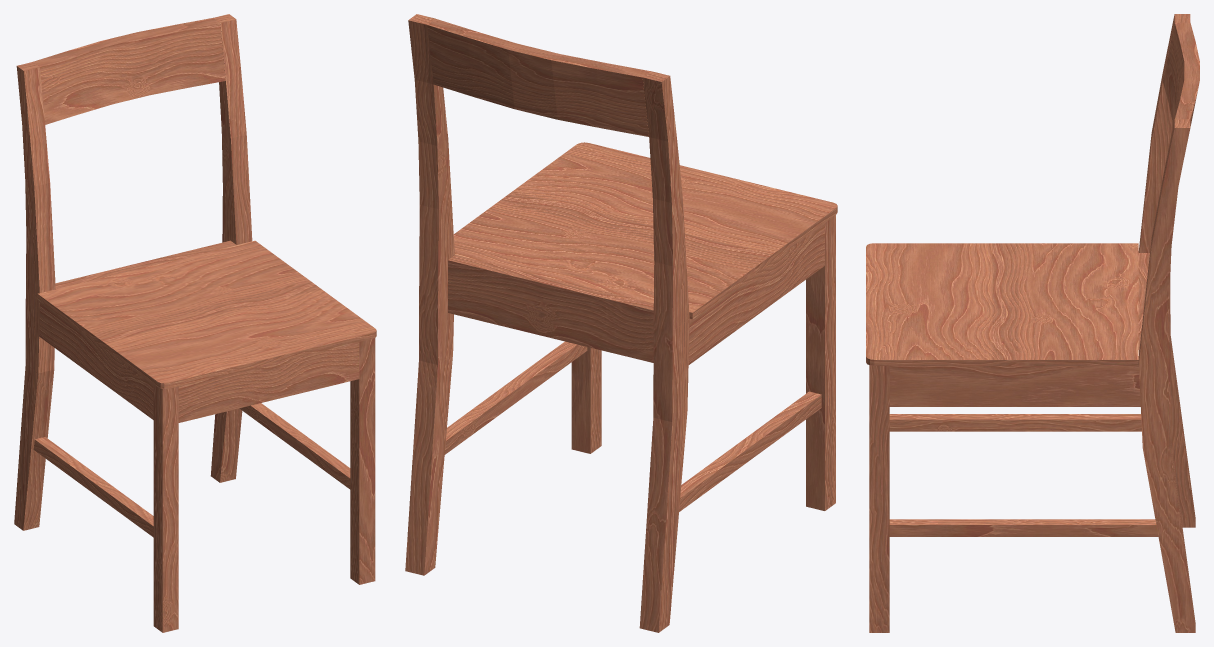
File: wooden_chair.glb
The picture shows the model from 3 angles, left to right: view 1: azimuth 30°, elevation 25°; view 2: azimuth 150°, elevation 25°; view 3: azimuth 270°, elevation 25°; orthographic projection. The views are drawn at different scales.
Parts seen in each view (by area): view 1: Wooden Chair; view 2: Wooden Chair; view 3: Wooden Chair.
Boxes of the visible parts, <box> form: Wooden Chair: <box>14,14,376,632</box>; Wooden Chair: <box>405,14,837,632</box>; Wooden Chair: <box>866,14,1199,632</box>.
Size of the model in its own units: 0.4102 by 0.828 by 0.4959.
Materials: 1 (1 with a texture image).
